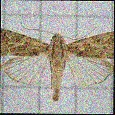Spodoptera litura: (1, 21, 114, 102)
